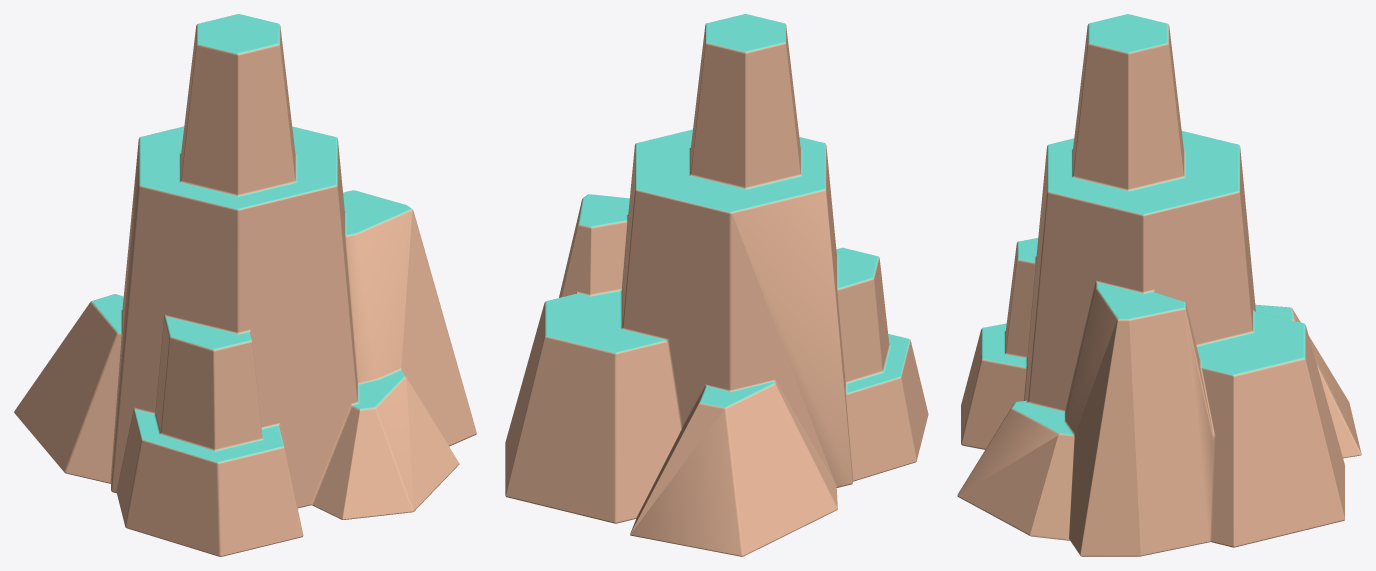
File: rock_tallB.glb
3 renders of one model, left to right at view 1: azimuth 30°, elevation 25°; view 2: azimuth 150°, elevation 25°; view 3: azimuth 270°, elevation 25°, orthographic. The views are drawn at different scales.
Visible parts, largest first — view 1: rock_tallB; view 2: rock_tallB; view 3: rock_tallB.
Boxes of the visible parts, <box> form: rock_tallB: <box>14,14,476,556</box>; rock_tallB: <box>505,14,928,556</box>; rock_tallB: <box>957,14,1361,556</box>.
Size of the model in its own units: 0.7626 by 0.8838 by 0.7659.
